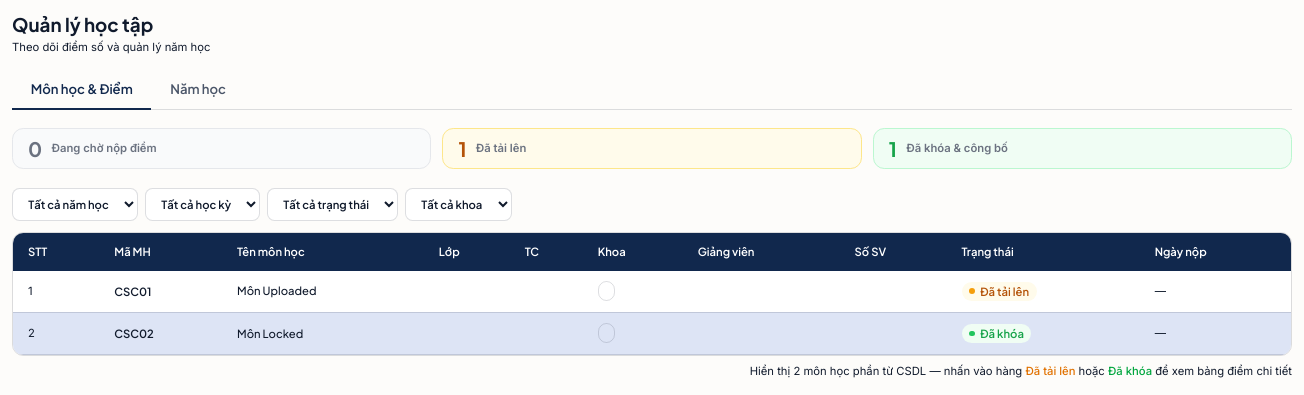
Test: Function 20: Lock & Publish Grades (Frontend Unit) › [TC_2.21_05]: Verify locked state UI restrictions
The image size is (1304, 395).
# Click vào môn đã khóa
Click the text "Môn Locked": [270, 332] box [237,326,303,340]
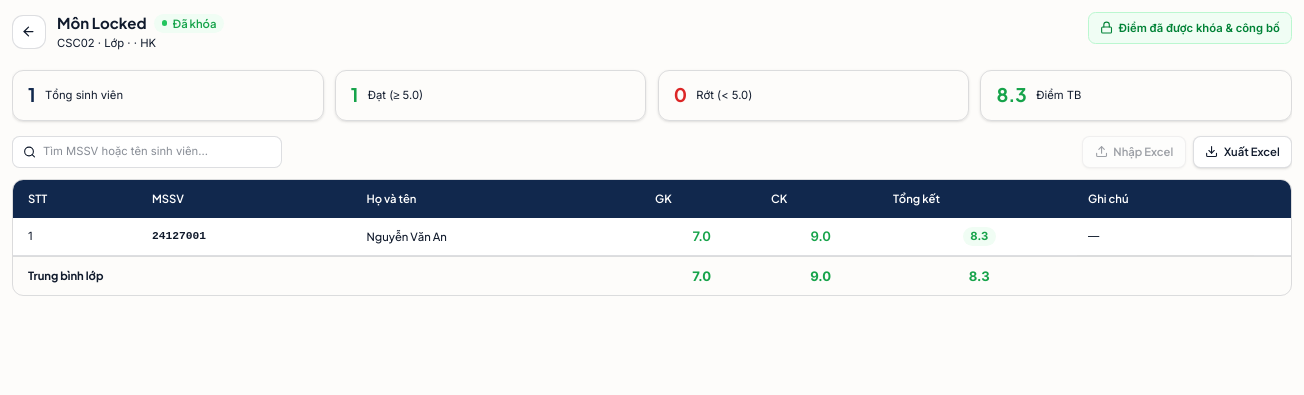
Expected: the text "Nguyễn Văn An" is shown, [355,218,644,256]
Expected: the text "Điểm đã được khóa & công bố" is shown, [1088,12,1292,44]
